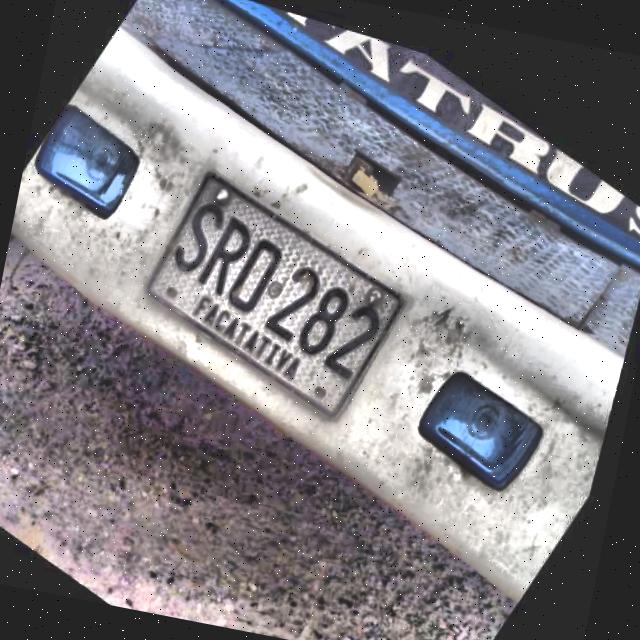2: (261, 253, 329, 346), (319, 295, 387, 383)
8: (293, 278, 356, 367)
O: (222, 233, 289, 318)
R: (194, 214, 259, 301)
S: (167, 196, 231, 281)
